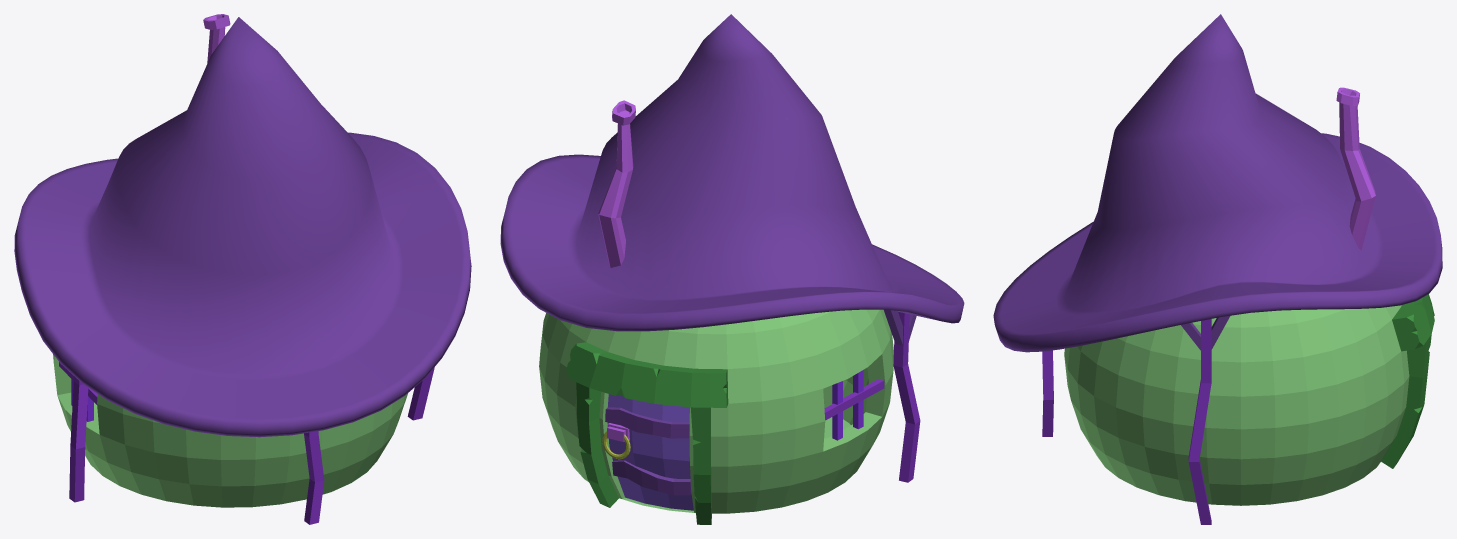
The model's file is CadiEvi.fbx.
3 renders of one model, left to right at view 1: azimuth 30°, elevation 25°; view 2: azimuth 150°, elevation 25°; view 3: azimuth 270°, elevation 25°, orthographic. The views are drawn at different scales.
Visible parts, largest first — view 1: Plane; view 2: Plane; view 3: Plane.
Part boxes in pixels (left/top/right/bottom): Plane: left=14, top=14, right=471, bottom=524; Plane: left=500, top=14, right=964, bottom=524; Plane: left=993, top=14, right=1442, bottom=524.
Size of the model in its own units: 515 by 541 by 508.
